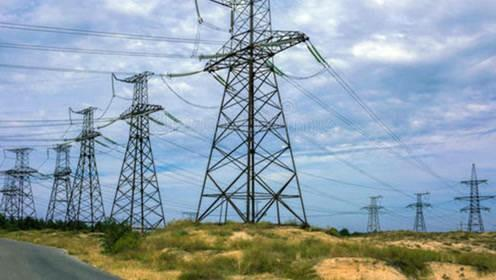power_tower: (184, 0, 312, 228), (111, 67, 176, 232), (67, 96, 110, 224), (456, 163, 496, 237), (3, 138, 38, 220), (45, 139, 76, 226), (356, 194, 392, 232), (405, 189, 436, 230)
